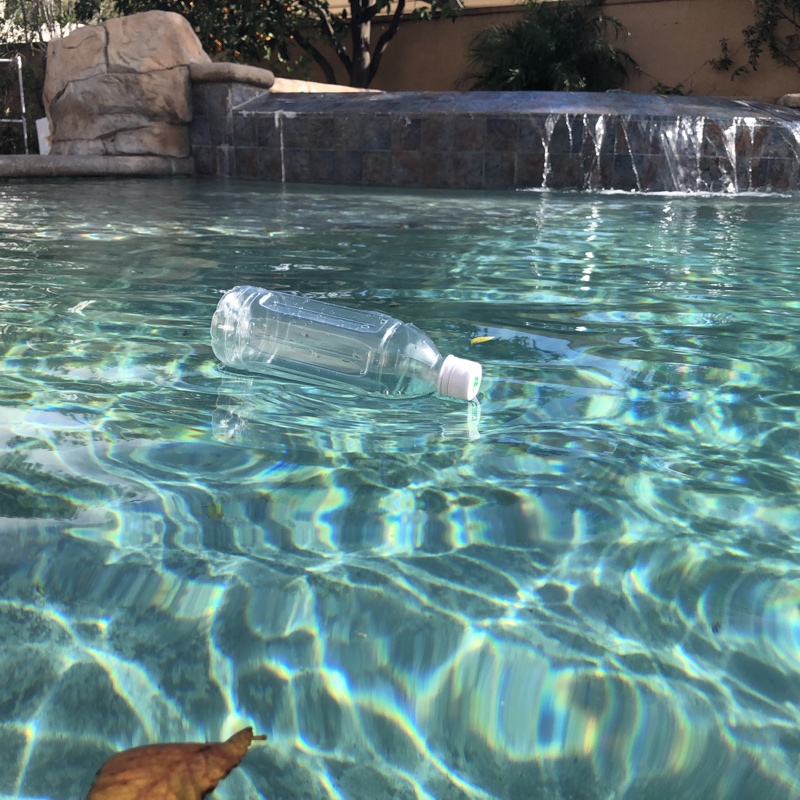Plastic Bottle: (207, 275, 487, 414)
